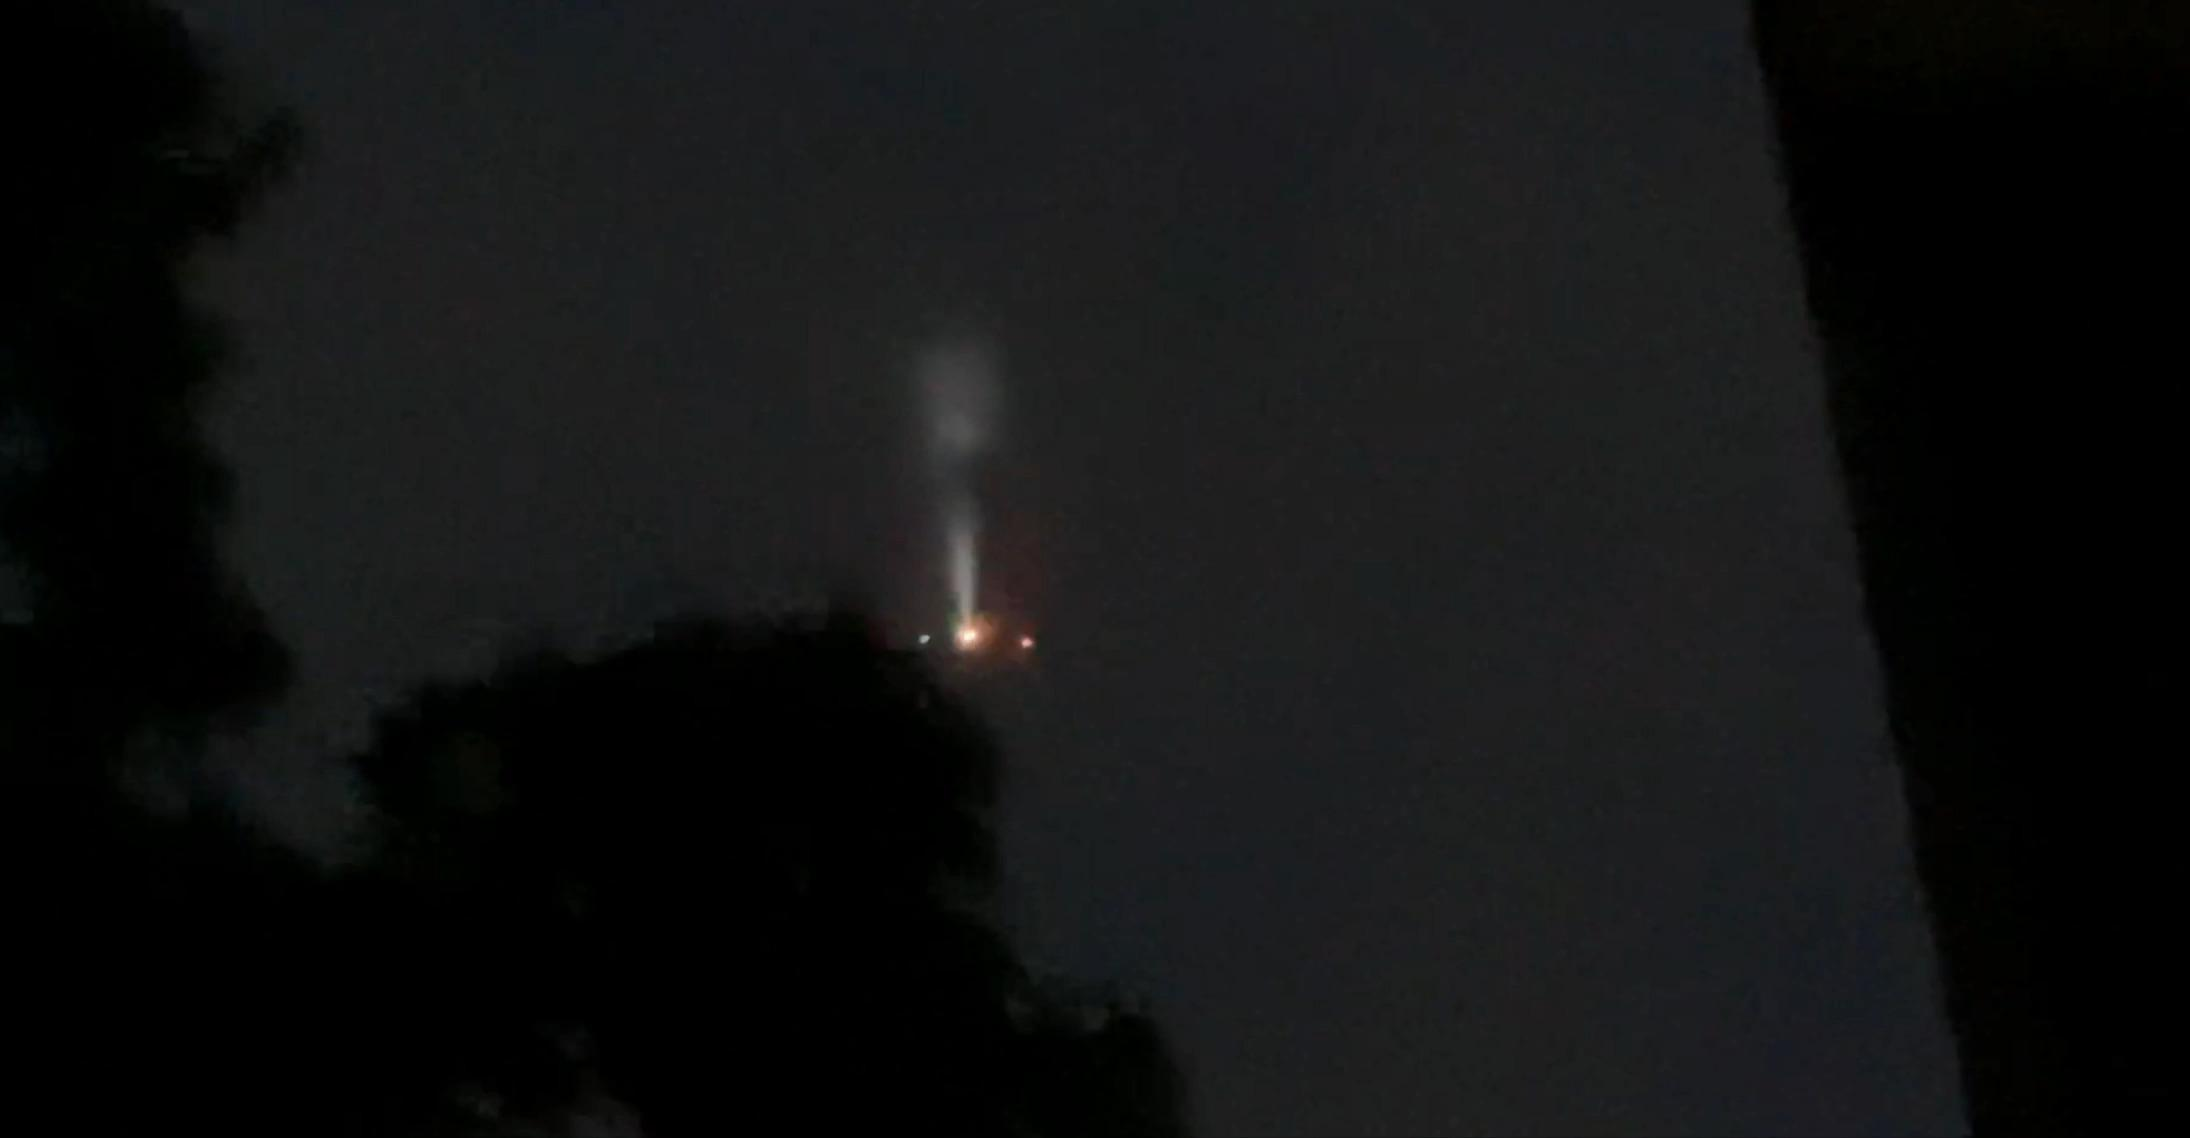Plane: (873, 576, 1078, 685)
